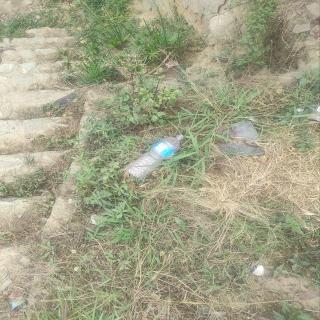Plastic-bottle: (121, 133, 188, 185)
